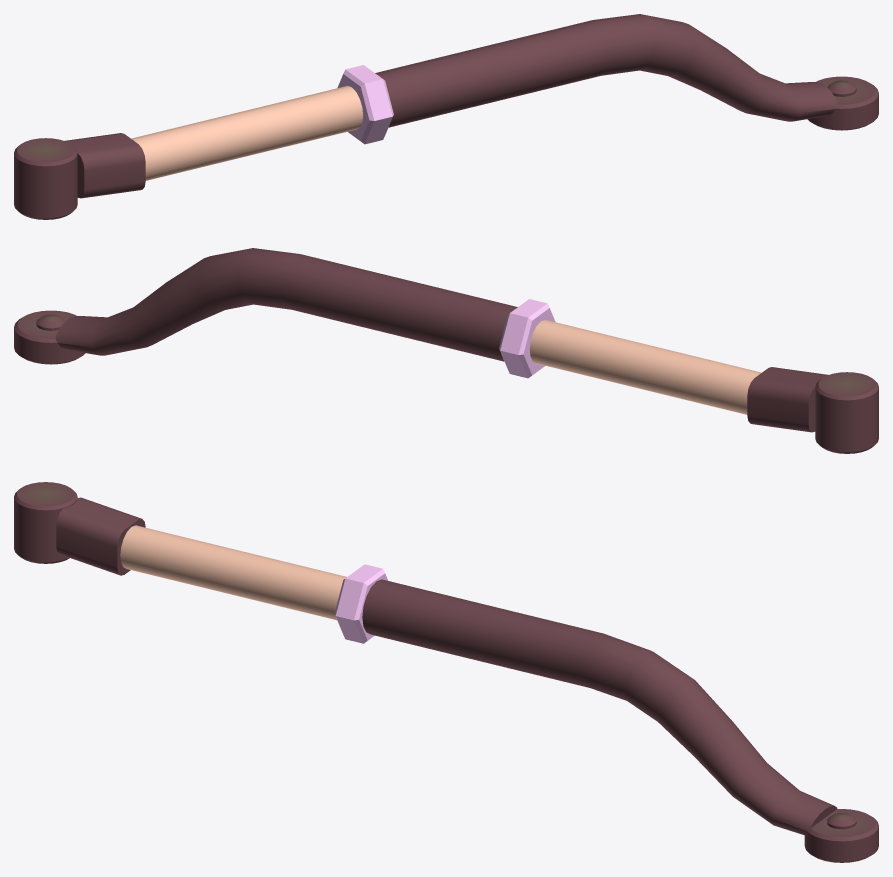
Rendered from Kit_DoorCloser_Forearm.fbx.
The picture shows the model from 3 angles, top to bottom: view 1: azimuth 30°, elevation 25°; view 2: azimuth 150°, elevation 25°; view 3: azimuth 330°, elevation 25°; orthographic projection.
Parts seen in each view (by area): view 1: Kit_DoorCloser_Forearm_LOD0; view 2: Kit_DoorCloser_Forearm_LOD0; view 3: Kit_DoorCloser_Forearm_LOD0.
Boxes of the visible parts, x1,y1,x2,y2 form: Kit_DoorCloser_Forearm_LOD0: [14, 14, 878, 219]; Kit_DoorCloser_Forearm_LOD0: [14, 248, 878, 453]; Kit_DoorCloser_Forearm_LOD0: [14, 482, 878, 862].
Size of what is drawn, in the model's own units: 0.2795 by 0.05 by 0.0219.
